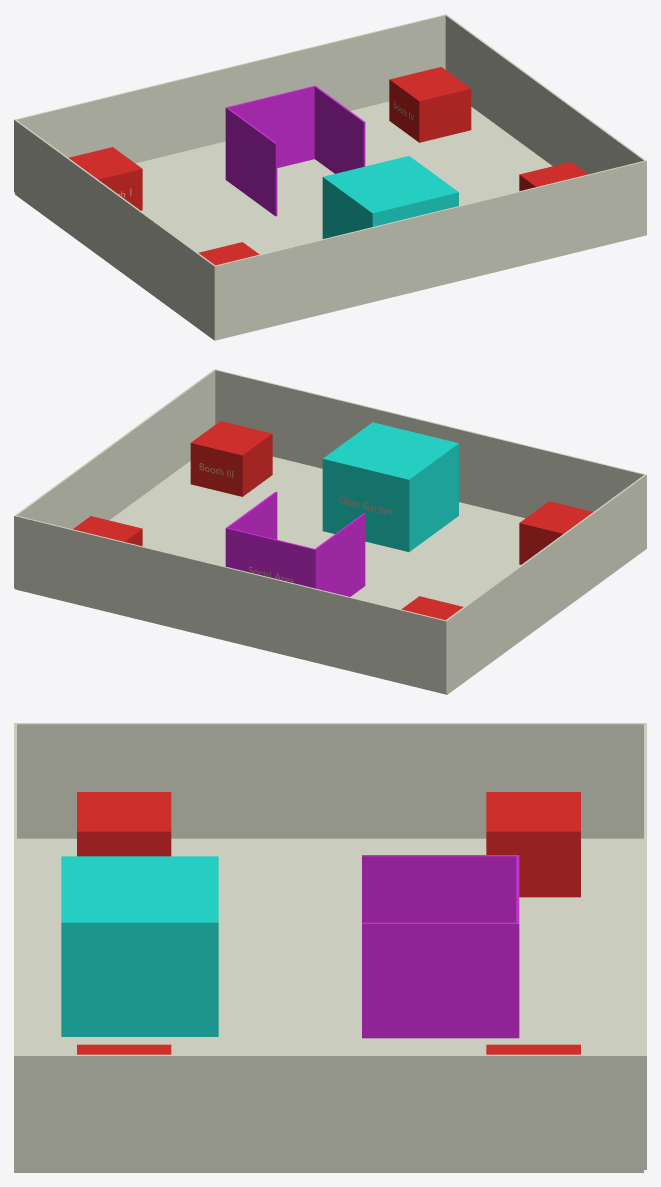
File: demo_mirrored.glb
3 views of the same model, one above another, from view 1: azimuth 30°, elevation 25°; view 2: azimuth 150°, elevation 25°; view 3: azimuth 270°, elevation 25° (orthographic). The views are drawn at different scales.
Parts seen in each view (by area): view 1: Wall_U.001, Floor.001, Wall_D.001, Wall_R.001, Wall_L.001, Social_Area.002, Glass_Garden.002, Booth_4.002, Booth_1.002, Booth_3.002, Booth_2.002; view 2: Wall_D.001, Floor.001, Wall_U.001, Wall_R.001, Glass_Garden.002, Wall_L.001, Social_Area.002, Booth_3.002, Booth_2.002, Booth_4.002, Booth_1.002; view 3: Floor.001, Wall_L.001, Wall_R.001, Social_Area.002, Glass_Garden.002, Booth_1.002, Booth_2.002, Wall_D.001, Booth_4.002, Booth_3.002, Wall_U.001.
Boxes of the visible parts, x1,y1,x2,y2 form: Wall_U.001: (214,161,645,338); Floor.001: (15,101,646,340); Wall_D.001: (14,14,446,192); Wall_R.001: (15,120,216,338); Wall_L.001: (445,15,646,233); Social_Area.002: (225,85,365,216); Glass_Garden.002: (322,156,458,238); Booth_4.002: (389,67,471,142); Booth_1.002: (68,147,142,210); Booth_3.002: (519,162,587,190); Booth_2.002: (198,242,259,265); Wall_D.001: (14,515,447,693); Floor.001: (15,456,646,694); Wall_U.001: (215,369,646,518); Wall_R.001: (446,474,646,692); Glass_Garden.002: (322,422,458,551); Wall_L.001: (15,369,215,529); Social_Area.002: (225,491,365,596); Booth_3.002: (190,421,272,496); Booth_2.002: (519,501,592,564); Booth_4.002: (73,516,142,546); Booth_1.002: (401,596,463,620); Floor.001: (14,838,643,1172); Wall_L.001: (14,1054,643,1169); Wall_R.001: (14,723,643,838); Social_Area.002: (362,855,519,1038); Glass_Garden.002: (61,856,218,1036); Booth_1.002: (486,792,580,897); Booth_2.002: (77,792,171,856); Wall_D.001: (644,723,646,1169); Booth_4.002: (486,1044,580,1054); Booth_3.002: (77,1044,171,1054); Wall_U.001: (14,723,16,1054).
Bounding box in the file's own units: 25 × 4.1 × 20.1.
